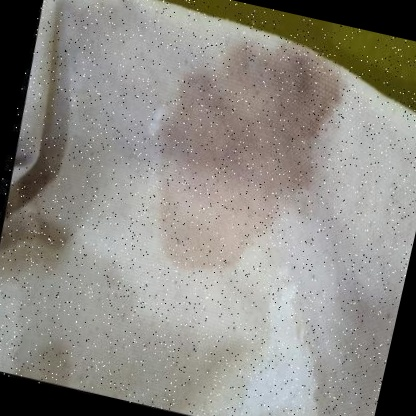coffee: (171, 64, 307, 225)
